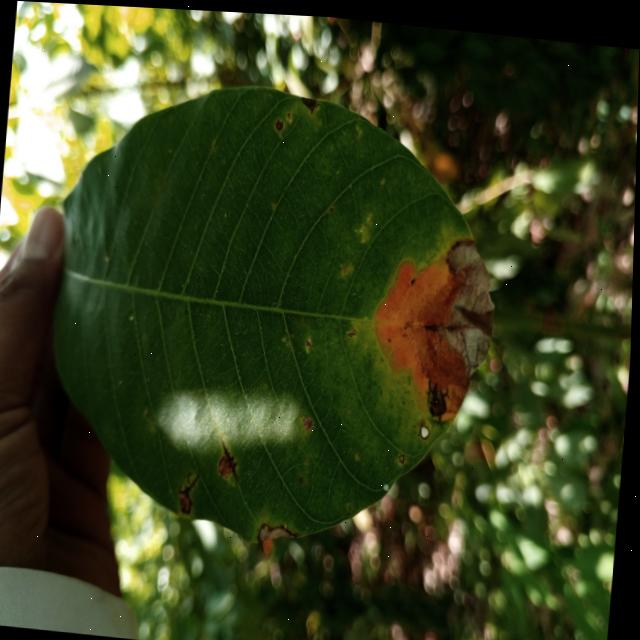Colletotrichum: (420, 420, 432, 435), (400, 450, 406, 459), (354, 325, 358, 331), (349, 329, 353, 333)
Corynespora: (425, 372, 452, 422), (178, 467, 202, 513), (220, 440, 244, 482)
Leaf-Blight: (434, 233, 501, 374), (262, 522, 296, 541)
